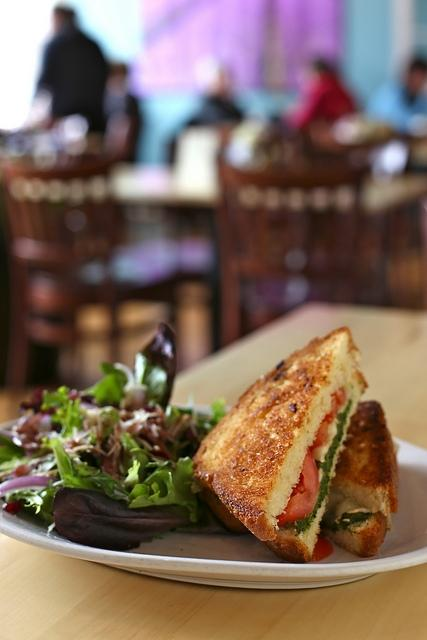tomato: (276, 448, 320, 528), (308, 421, 329, 451), (311, 535, 333, 562), (322, 396, 339, 424)
